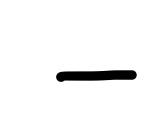minus: (55, 70, 137, 81)
